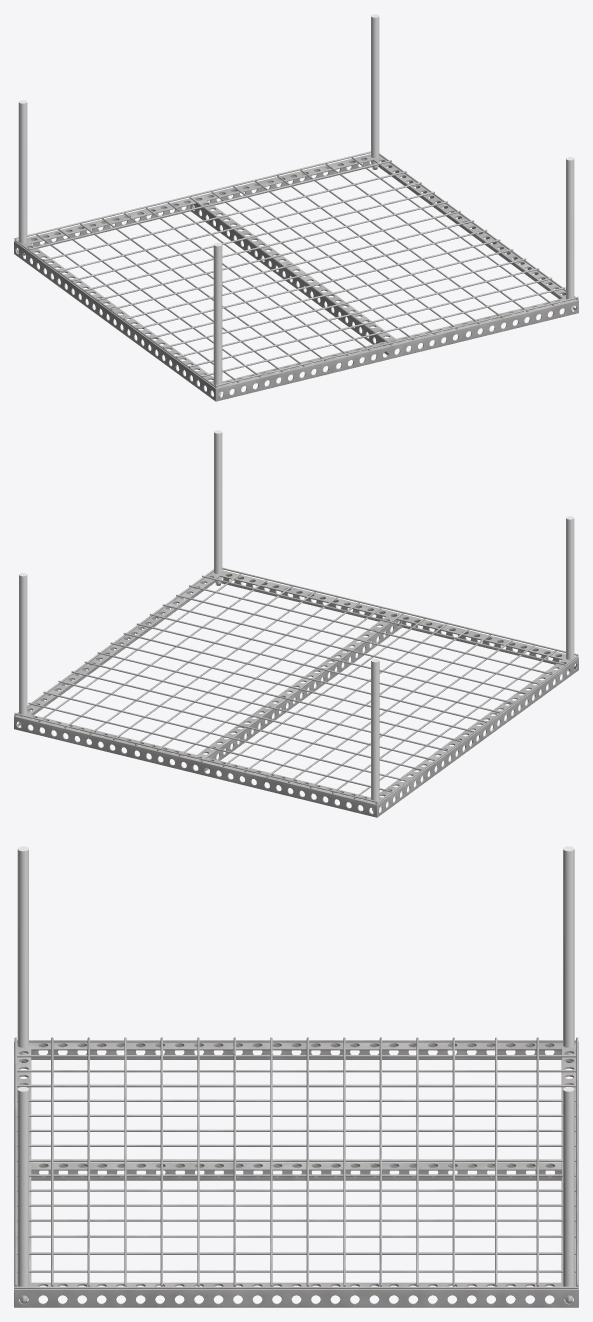
3 views of the same model, one above another, from view 1: azimuth 30°, elevation 25°; view 2: azimuth 150°, elevation 25°; view 3: azimuth 270°, elevation 25° (orthographic). The views are drawn at different scales.
Parts seen in each view (by area): view 1: Grill, Rods; view 2: Grill, Rods; view 3: Grill, Rods.
Part boxes in pixels (x1,y1,x2,y2): Grill: [14, 151, 578, 401]; Rods: [18, 14, 574, 397]; Grill: [14, 567, 578, 817]; Rods: [19, 430, 574, 813]; Grill: [14, 1037, 578, 1307]; Rods: [17, 846, 574, 1303].
Bounding box in the file's own units: 32.14 × 12.97 × 30.94.
Materials: 2 (2 with a texture image).
